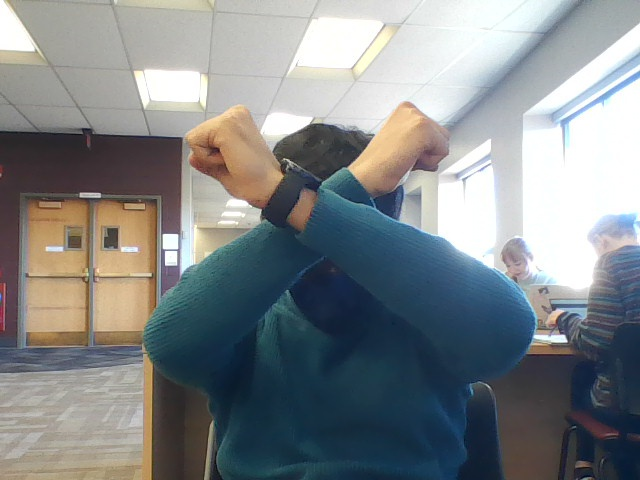cancel: (179, 89, 473, 340)
